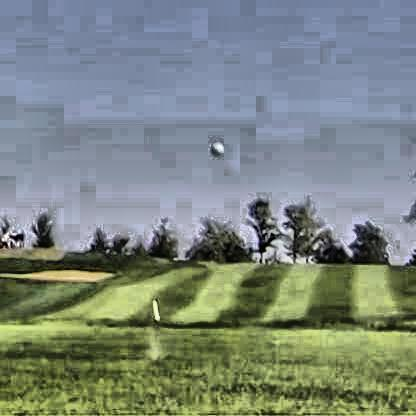golfball: (206, 139, 221, 156)
